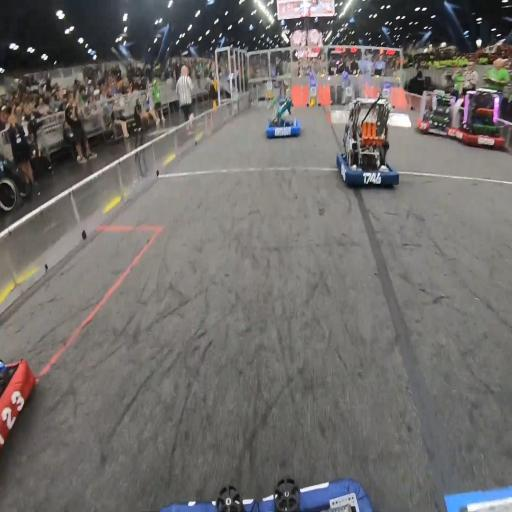robot: (336, 94, 399, 188), (0, 351, 38, 453), (456, 85, 506, 148), (416, 88, 456, 137), (266, 95, 300, 140)
